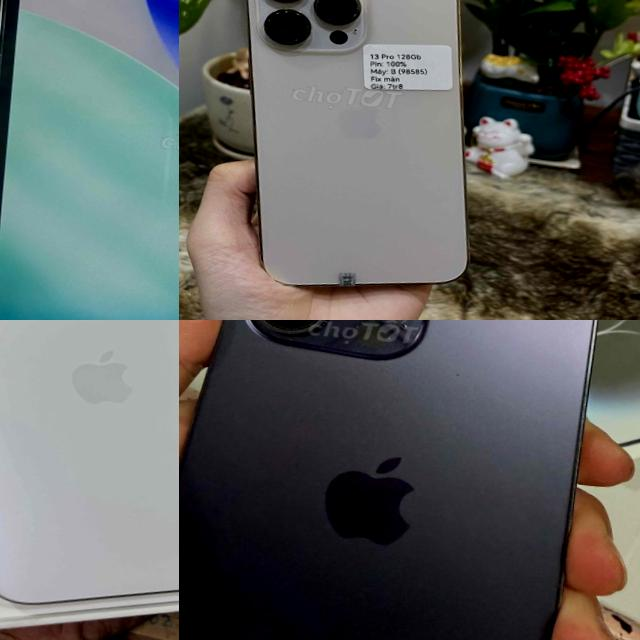gen_12_13: (216, 0, 506, 307), (0, 0, 179, 320)
gen_14: (179, 320, 613, 640)
gen_16: (0, 320, 179, 640)
